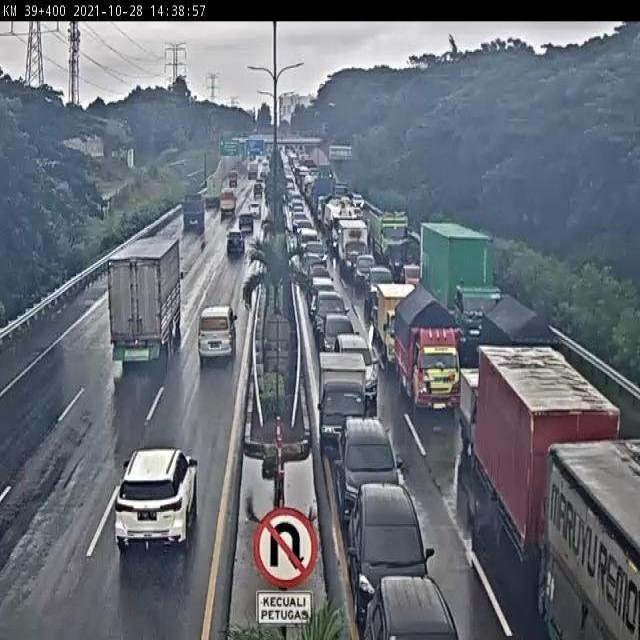big truck: (479, 345, 626, 595), (108, 235, 187, 366), (417, 220, 491, 341), (368, 206, 412, 262), (198, 177, 221, 215)
car: (349, 486, 436, 618), (115, 446, 200, 550), (335, 418, 399, 530), (363, 577, 460, 640), (335, 336, 380, 403), (197, 304, 238, 363), (319, 315, 360, 369), (312, 290, 350, 342), (367, 265, 395, 308), (309, 276, 334, 316), (300, 252, 323, 295), (297, 226, 319, 262), (355, 255, 376, 288), (224, 229, 245, 259), (237, 215, 254, 236), (247, 202, 261, 222)
small truck: (478, 292, 562, 417), (393, 287, 462, 416), (458, 365, 521, 468), (317, 348, 369, 449), (377, 283, 420, 369), (339, 220, 369, 276), (179, 192, 206, 229), (219, 188, 238, 220), (225, 173, 238, 192), (251, 185, 262, 200)
